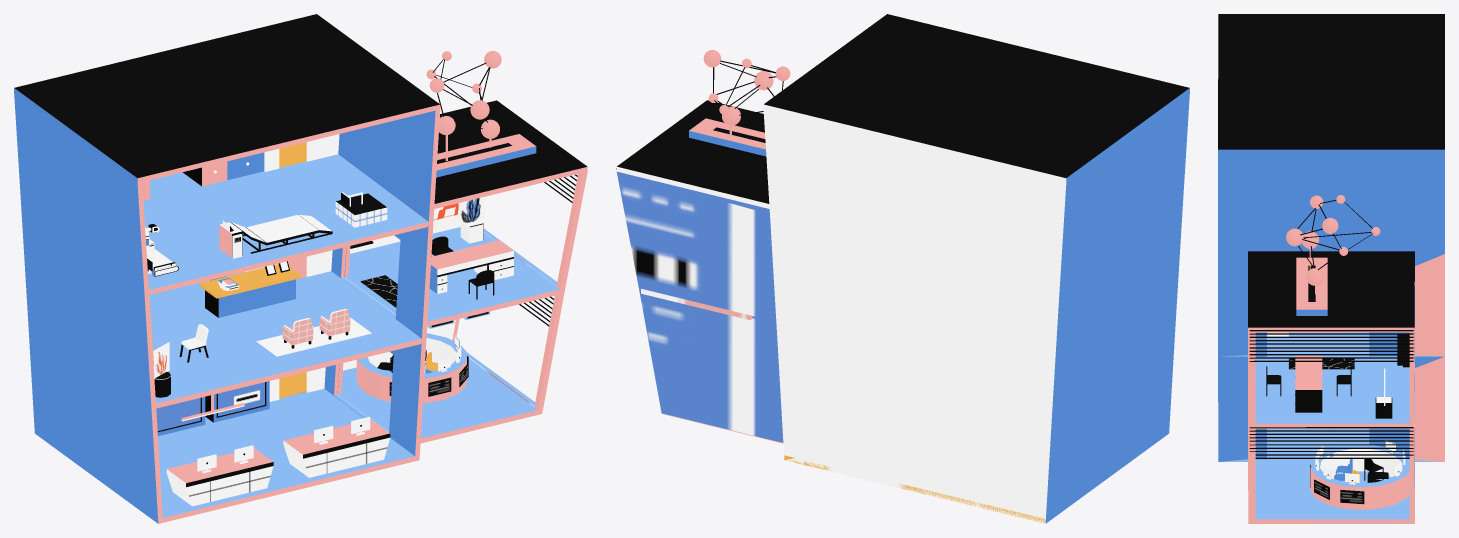
The model's file is 智慧医疗.fbx.
The picture shows the model from 3 angles, left to right: view 1: azimuth 30°, elevation 25°; view 2: azimuth 150°, elevation 25°; view 3: azimuth 270°, elevation 25°; orthographic projection. The views are drawn at different scales.
Visible parts, largest first — view 1: 布尔_1, 立方体_3_11, 立方体_3_12, zhuozi_, 圆桌, 立方体_2_5, 立方体_18, 立方体_1_3, 立方体_1_10, 球体_8_2, 立方体_1_5, 立方体_3_2 (+5 smaller); view 2: 布尔_1, 立方体_18, 球体_8_2; view 3: 布尔_1, 圆桌, 立方体_11_2, 立方体_1_12, 立方体_18, 立方体_2_5, 球体_8_2, 立方体_16_2, 立方体_1_7, huanpen, 立方体_6_2, 立方体_7_3.
Part boxes in pixels (<box>): 布尔_1: <box>14,14,587,523</box>; 立方体_3_11: <box>166,448,273,506</box>; 立方体_3_12: <box>283,419,390,477</box>; zhuozi_: <box>200,264,300,317</box>; 圆桌: <box>356,333,466,403</box>; 立方体_2_5: <box>429,240,513,293</box>; 立方体_18: <box>436,134,536,177</box>; 立方体_1_3: <box>230,214,332,245</box>; 立方体_1_10: <box>205,381,269,422</box>; 球体_8_2: <box>426,51,501,138</box>; 立方体_1_5: <box>142,152,264,200</box>; 立方体_3_2: <box>335,192,387,227</box>; 布尔_1: <box>616,14,1189,523</box>; 立方体_18: <box>689,118,766,156</box>; 球体_8_2: <box>703,50,790,125</box>; 布尔_1: <box>1218,14,1444,523</box>; 圆桌: <box>1310,445,1409,509</box>; 立方体_11_2: <box>1249,330,1413,361</box>; 立方体_1_12: <box>1249,427,1413,458</box>; 立方体_18: <box>1296,257,1327,315</box>; 立方体_2_5: <box>1295,355,1322,412</box>; 球体_8_2: <box>1286,195,1380,285</box>; 立方体_16_2: <box>1297,200,1373,269</box>; 立方体_1_7: <box>1288,358,1354,369</box>; huanpen: <box>1375,397,1392,418</box>; 立方体_6_2: <box>1397,334,1409,365</box>; 立方体_7_3: <box>1340,490,1364,504</box>.
Bounding box in the file's own units: 1485 × 1065 × 680.
